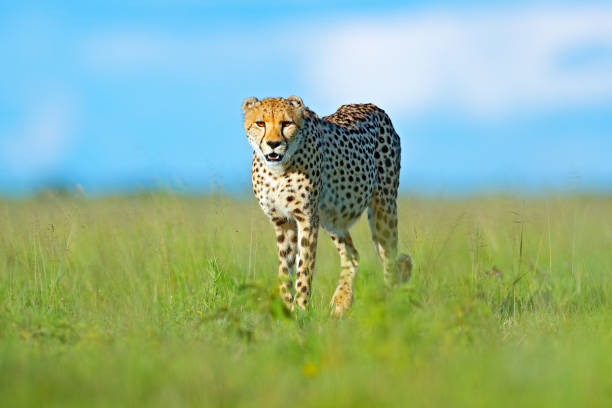cheetah: (232, 84, 320, 182)
